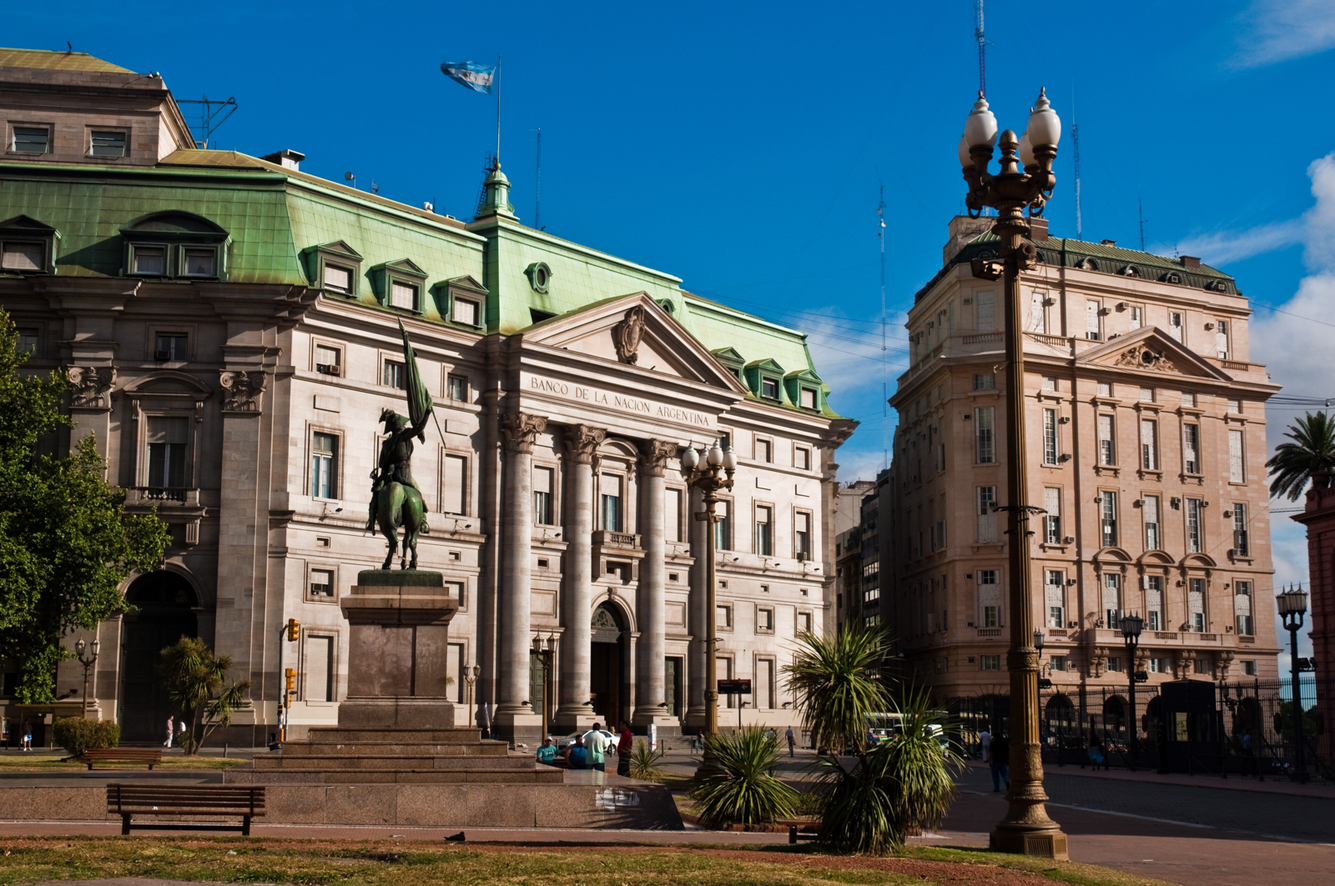fachada: (0, 48, 855, 738), (907, 106, 1302, 744)
poste: (934, 48, 1116, 852), (668, 440, 782, 777)
